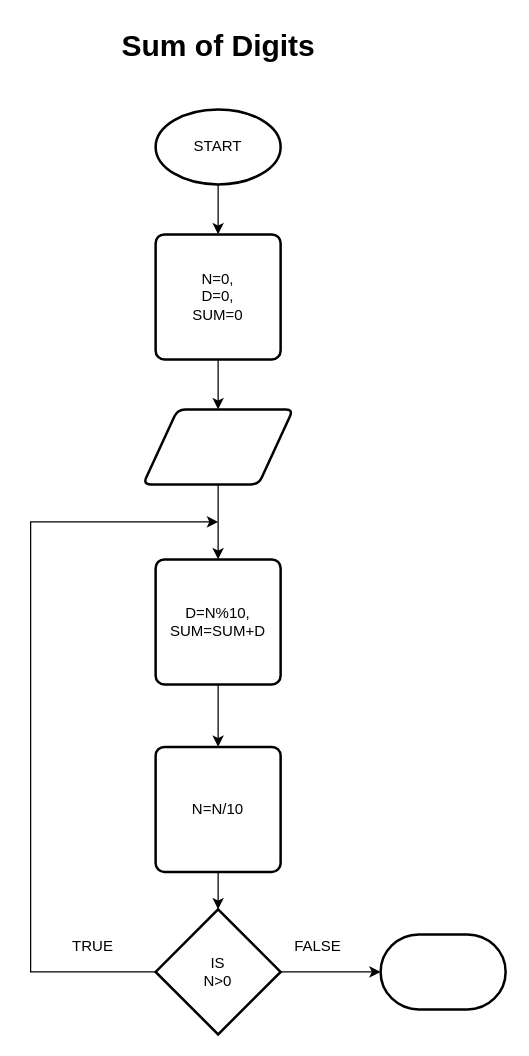
This 529x1056 diagram has some shape labels left out. The shapes that lost their labels are listed below. From the top down, each one's box as (x1, y1, x2, y2) in pixels, then its label:
(141, 408, 294, 485): INPUT N
(379, 932, 506, 1010): STOP
